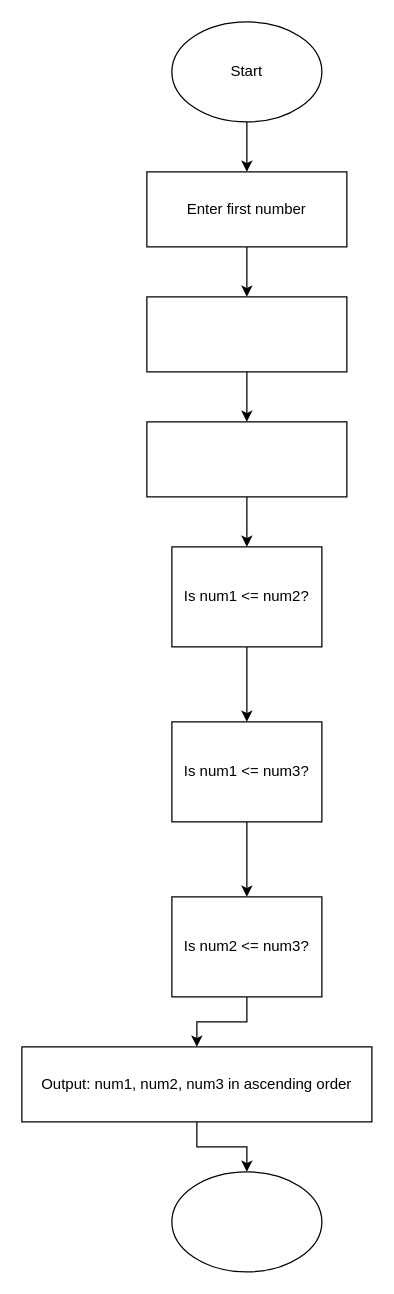
The diagram is 394 pixels wide and 1294 high, and some of its shapes have lost their labels. Each missing label, with the centre of its shape:
End: the point at 246,1221
Enter second number: the point at 246,334
Enter third number: the point at 246,459
